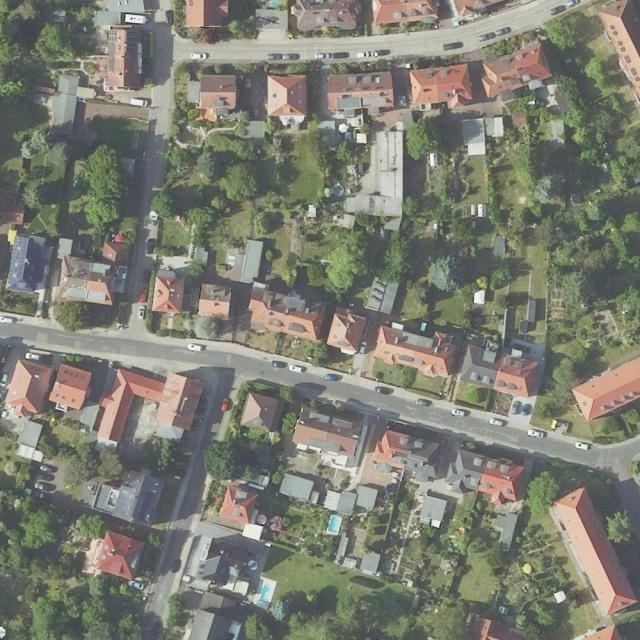PV: (8, 235, 28, 285), (25, 239, 47, 282), (126, 32, 139, 53), (109, 31, 117, 41)
